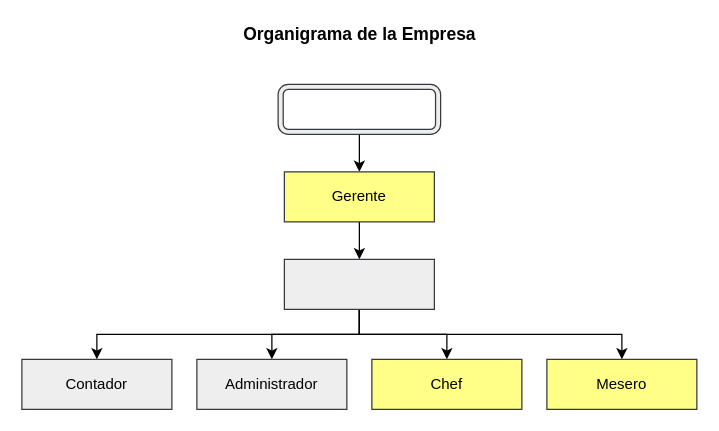
This 719x431 diagram has some shape labels left out. The centre of each missing label's shape, as x and y in pixels:
"Restaurant-Café" belongs at (x=359, y=108).
"Subgerente" belongs at (x=358, y=283).
